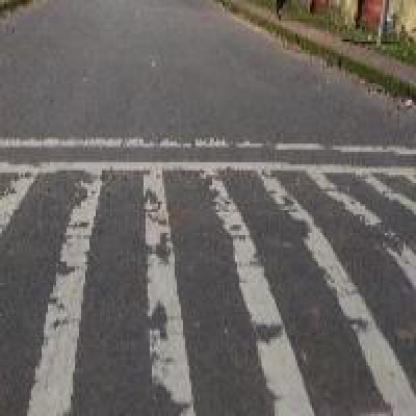Speed Bump: (0, 133, 414, 414)
